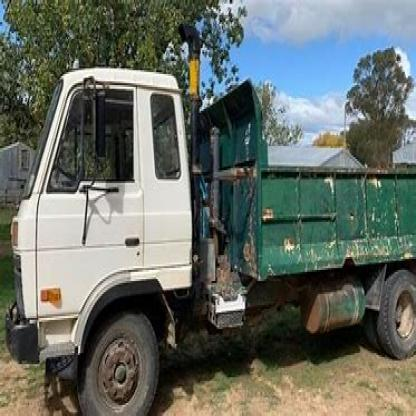dump_truck: (21, 46, 415, 414)
